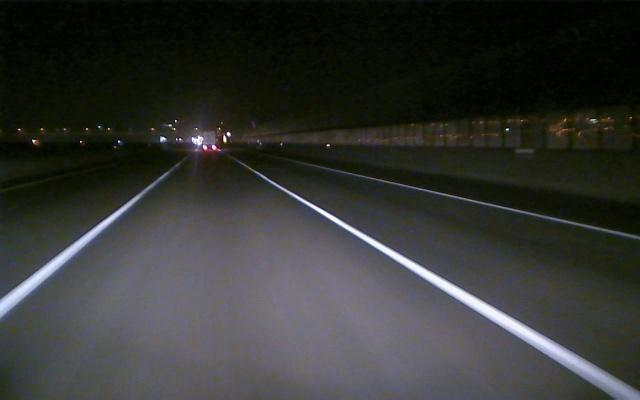lane: (259, 174, 630, 395), (3, 174, 167, 317), (342, 172, 640, 240)
